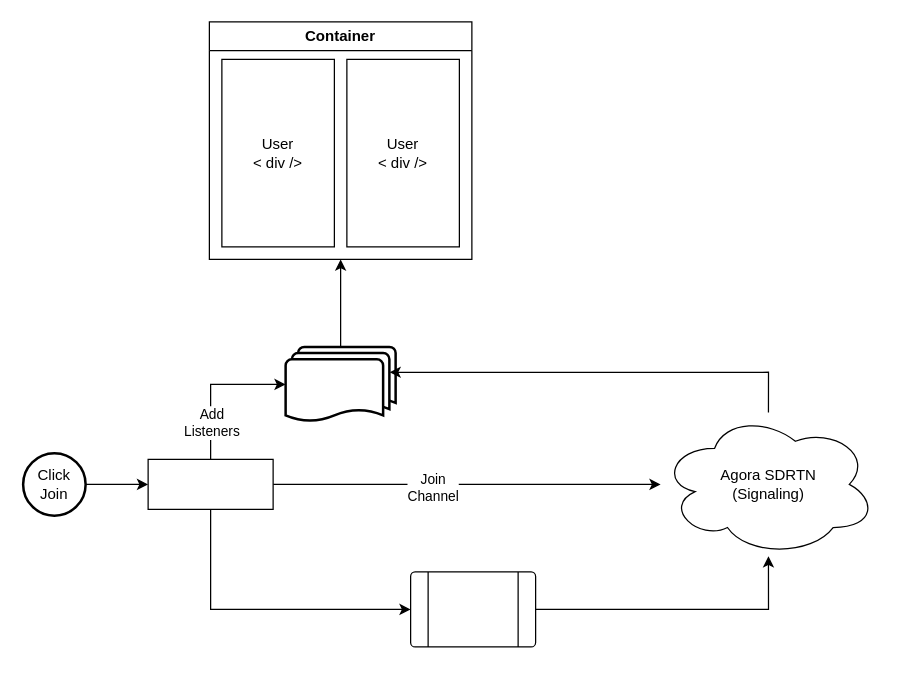
The diagram is 898 pixels wide and 695 high, and some of its shapes have lost their labels. The centre of each missing label's shape, as x and y in pixels:
"client" belongs at [210,483].
"Event Listeners" belongs at [340,383].
"Send Message" belongs at [472,609].
